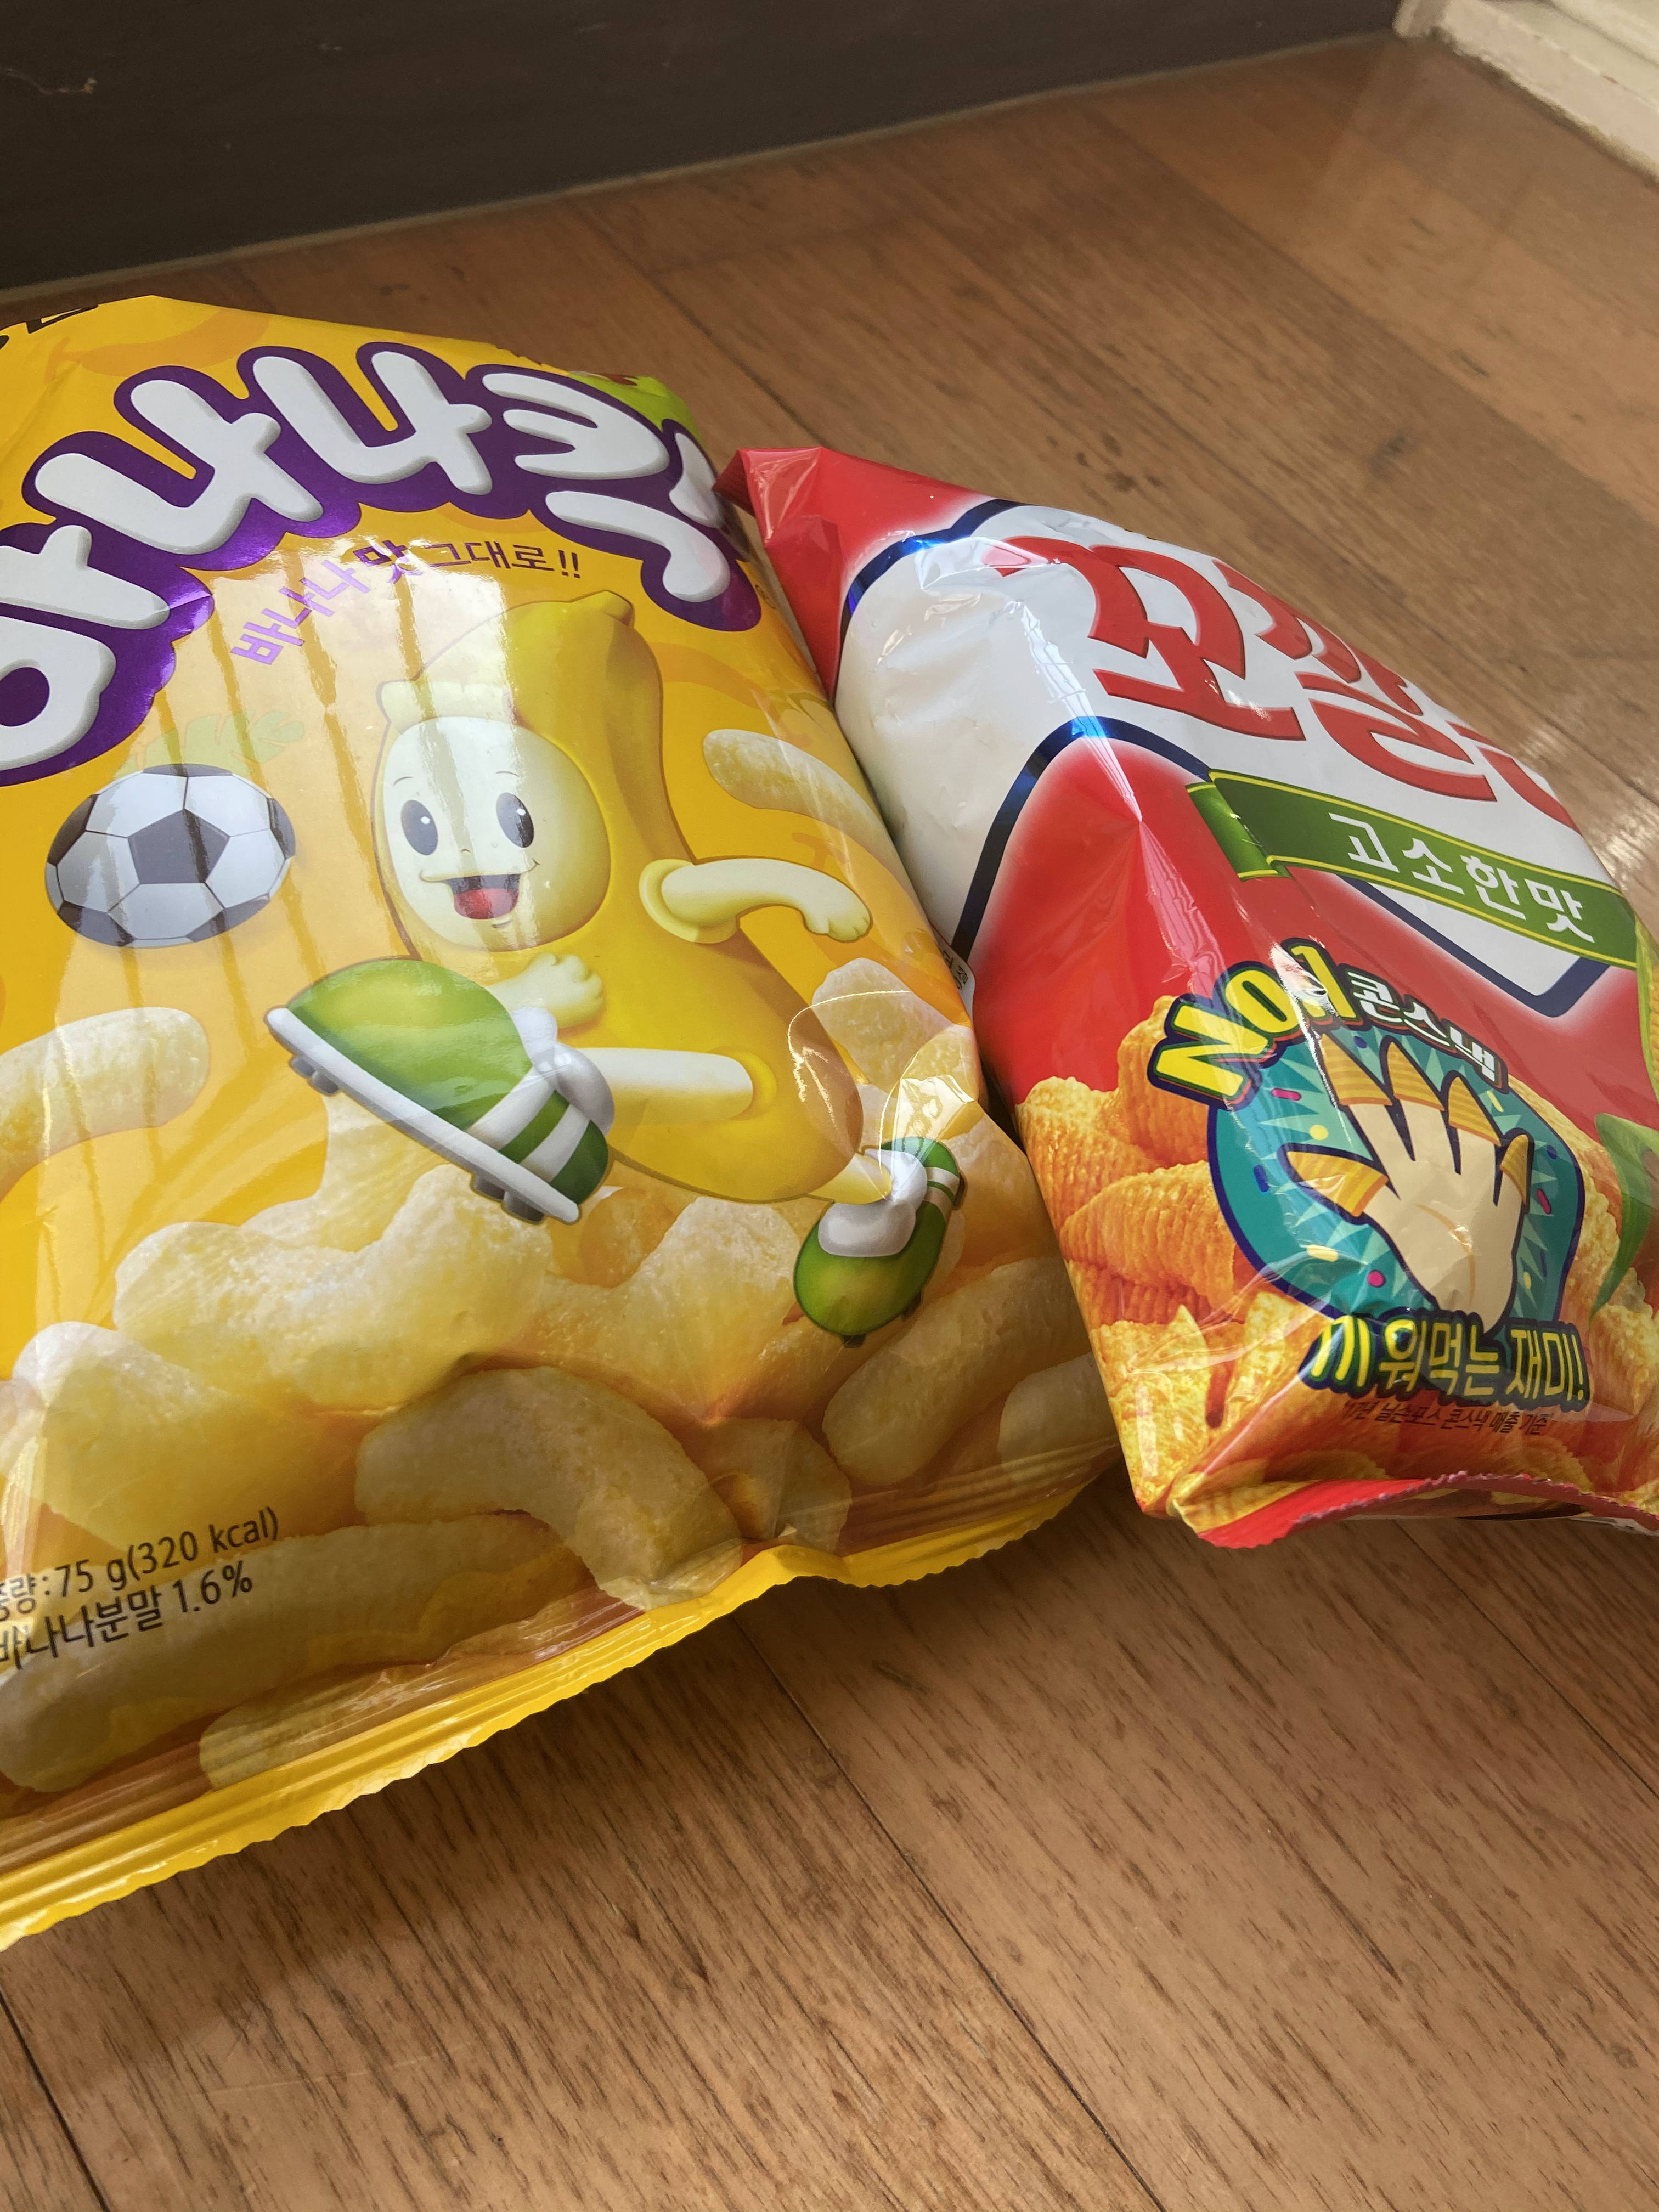banana: (0, 282, 1121, 1980)
ggoggalcon: (706, 434, 1659, 1561)
